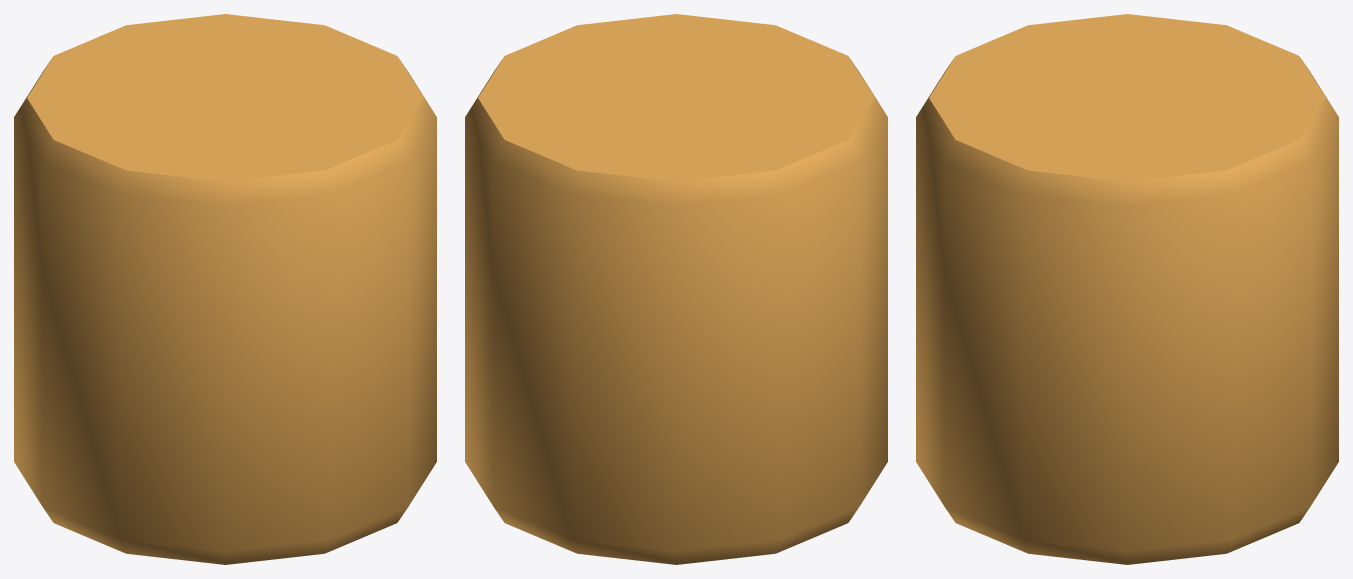
3 renders of one model, left to right at view 1: azimuth 30°, elevation 25°; view 2: azimuth 150°, elevation 25°; view 3: azimuth 270°, elevation 25°, orthographic.
Parts seen in each view (by area): view 1: Cylinder_02; view 2: Cylinder_02; view 3: Cylinder_02.
Part boxes in pixels (x1,y1,x2,y2): Cylinder_02: (14, 14, 436, 564); Cylinder_02: (465, 14, 887, 564); Cylinder_02: (916, 14, 1338, 564).
Bounding box in the file's own units: 320 × 320 × 320.
